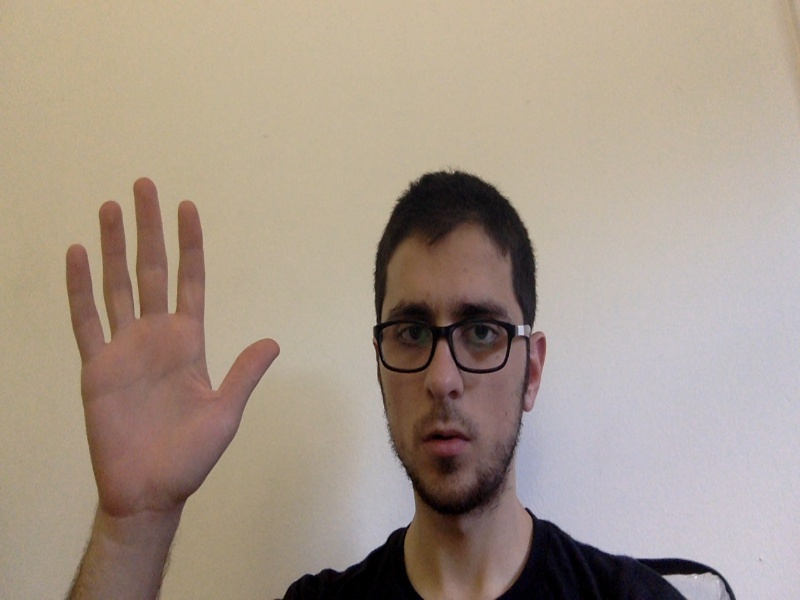5-hand: (65, 179, 278, 521)
